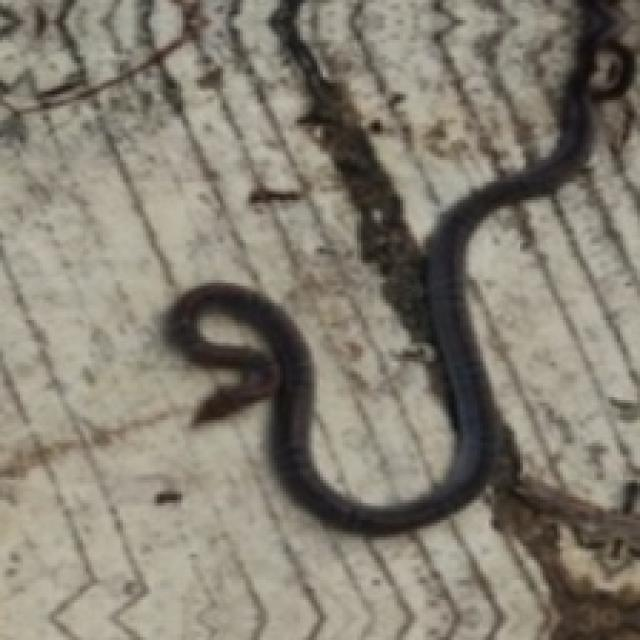northern short-headed snake: (166, 0, 637, 543)
